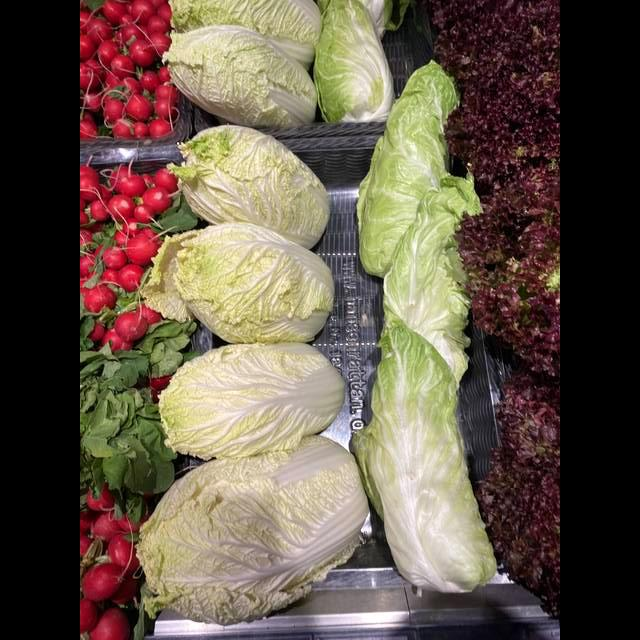cabbage: (136, 434, 372, 625), (142, 223, 330, 343), (158, 343, 343, 458), (176, 126, 330, 248), (169, 27, 315, 128), (170, 0, 323, 63)
